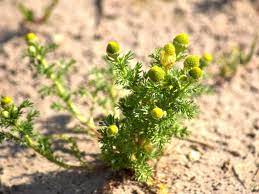pineple: (144, 88, 181, 132)
